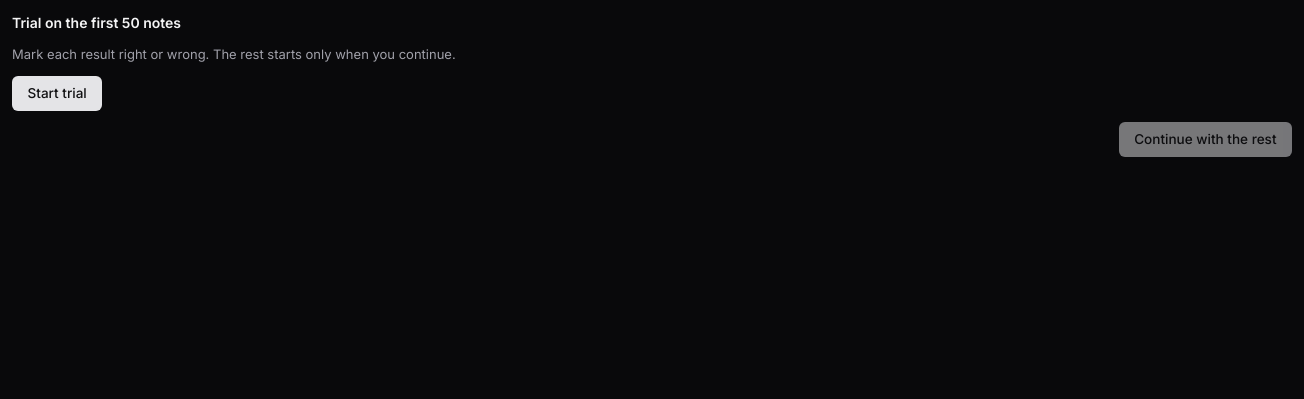
Test: TrialStep › an idle pass offers to start the trial, then polls while it runs
The image size is (1304, 399).
Later steps or results of the test are not shown.
Click the button "Start trial" at x=57, y=93, box left=12, top=76, right=102, bottom=111
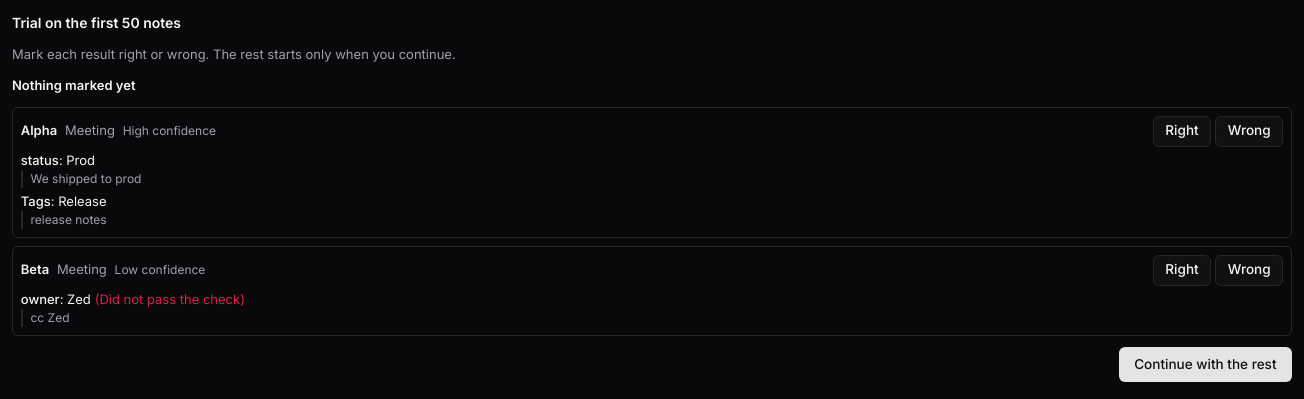
expect the list item "Alpha" is shown: met, box left=12, top=107, right=1292, bottom=238
expect the button "Continue with the rest" is enabled: met, box left=1119, top=347, right=1292, bottom=382
